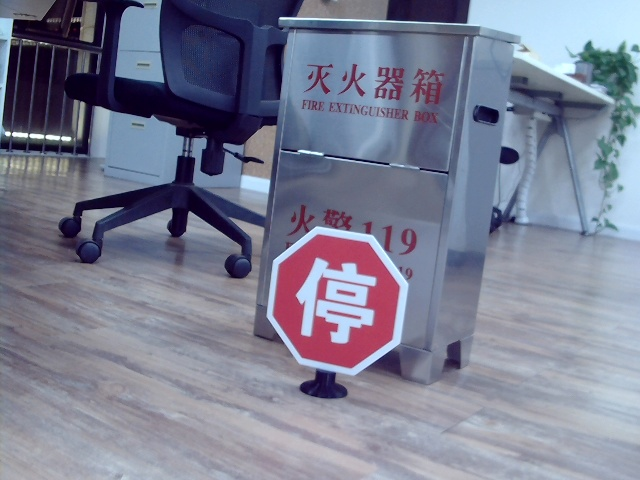stop: (292, 254, 380, 343)
